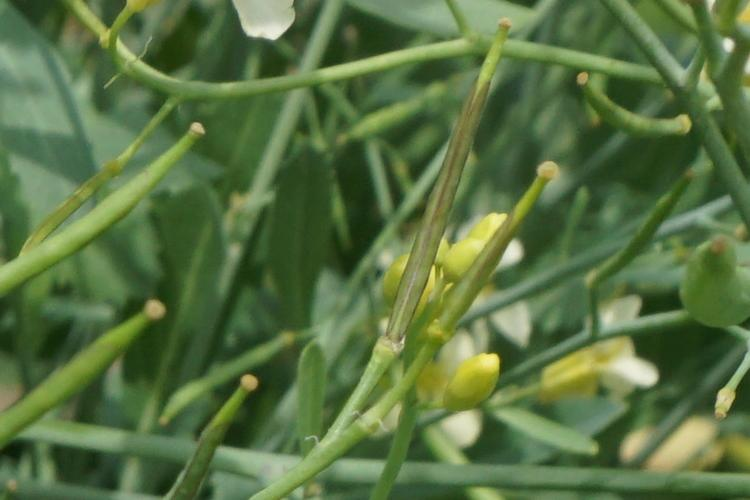bud: (445, 348, 532, 429), (358, 245, 439, 327), (435, 231, 498, 289), (467, 204, 528, 255)
pod: (14, 110, 218, 262), (452, 165, 550, 330), (19, 293, 170, 398), (581, 61, 723, 171), (441, 15, 502, 246), (178, 371, 288, 471)
